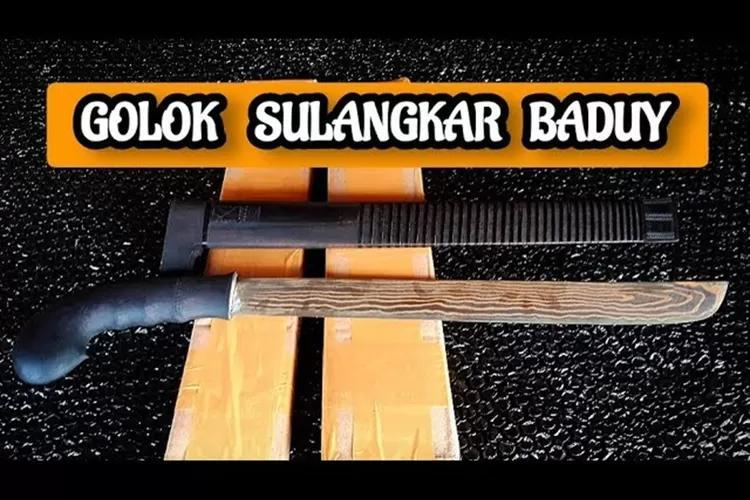facao: (7, 270, 729, 384)
